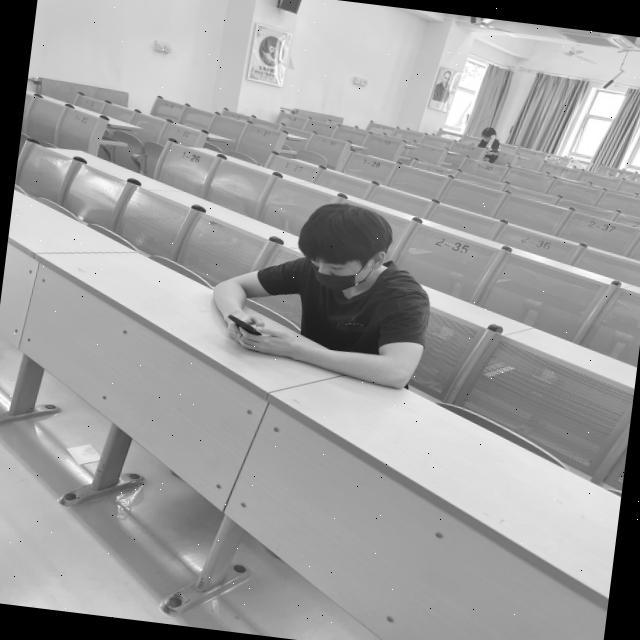phone: (205, 191, 440, 392)
